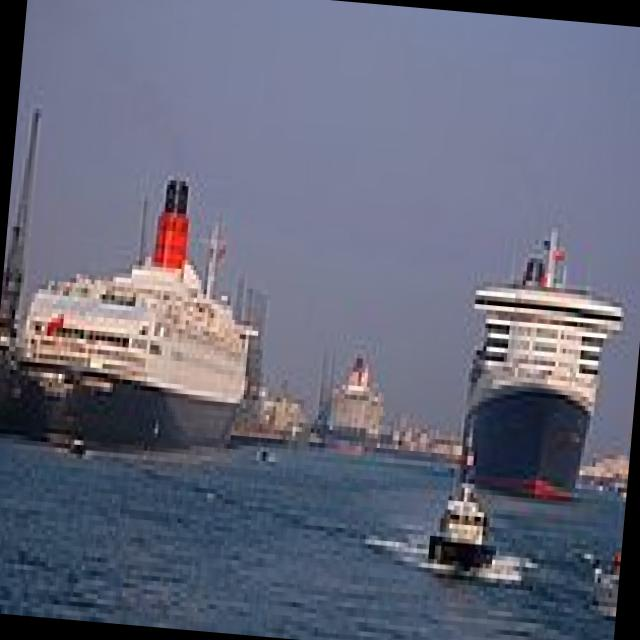boat: (29, 286, 268, 450), (453, 332, 614, 518), (427, 472, 522, 592)
